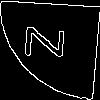Z: (25, 25, 75, 60)
